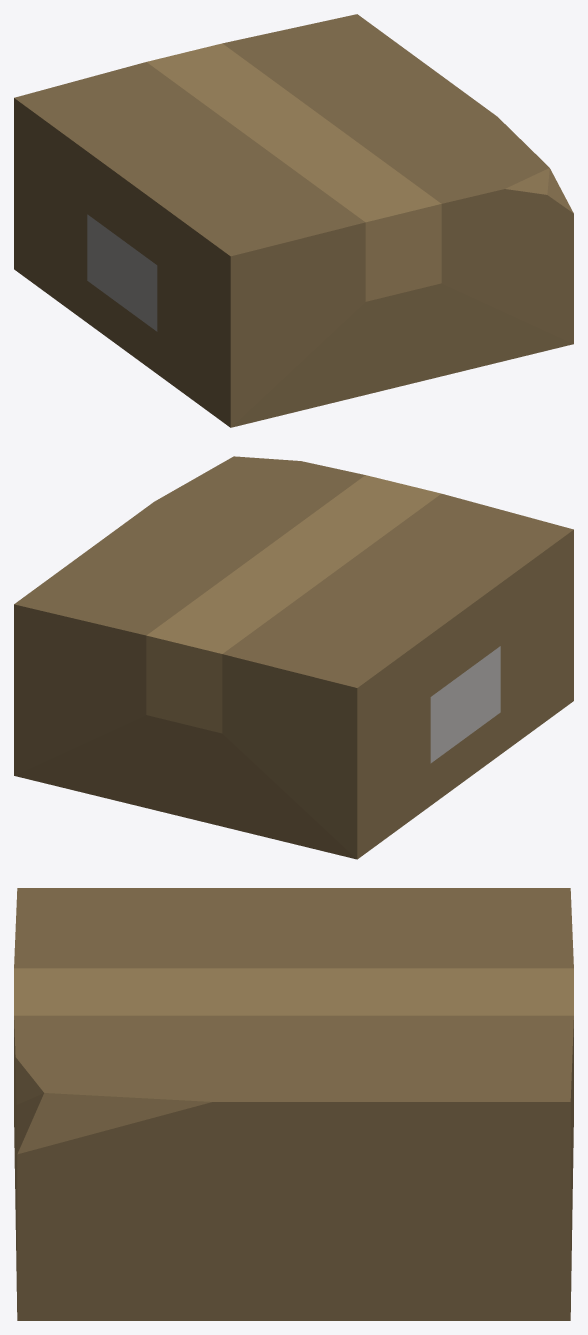
File: SM_Prop_CardboardBox_03.fbx
3 views of the same model, one above another, from view 1: azimuth 30°, elevation 25°; view 2: azimuth 150°, elevation 25°; view 3: azimuth 270°, elevation 25° (orthographic). The views are drawn at different scales.
Visible parts, largest first — view 1: SM_Prop_CardboardBox_03; view 2: SM_Prop_CardboardBox_03; view 3: SM_Prop_CardboardBox_03.
Part boxes in pixels (x1,y1,x2,y2): SM_Prop_CardboardBox_03: (14, 14, 573, 427); SM_Prop_CardboardBox_03: (14, 456, 573, 859); SM_Prop_CardboardBox_03: (14, 888, 573, 1320).
Bounding box in the file's own units: 58.29 × 28.2 × 64.47.
